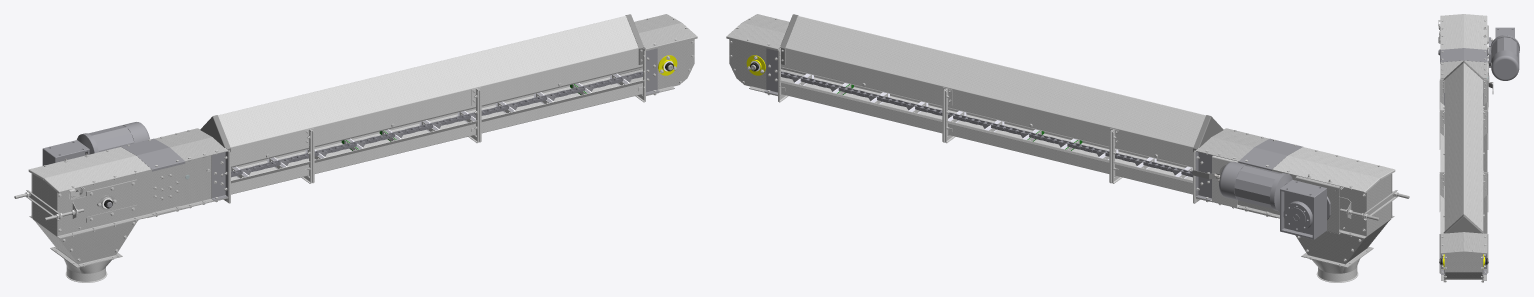
File: Annahmetrogkettenförderer_Typ_NRL.glb
3 renders of one model, left to right at view 1: azimuth 30°, elevation 25°; view 2: azimuth 150°, elevation 25°; view 3: azimuth 270°, elevation 25°, orthographic. The views are drawn at different scales.
Parts seen in each view (by area): view 1: Volumenkörper1.062, Volumenkörper1.058, Volumenkörper1.064, Volumenkörper1.059, Volumenkörper1.055, Volumenkörper2.007, Volumenkörper1.067, Volumenkörper1.129, Volumenkörper2.008, Volumenkörper1.026, Volumenkörper1.002, Volumenkörper1.066 (+10 smaller); view 2: Volumenkörper1.062, Volumenkörper1.058, Volumenkörper1.129, Volumenkörper1.064, Volumenkörper1.059, Volumenkörper1.055, Volumenkörper2.007, Volumenkörper2.009, Volumenkörper1.002, Volumenkörper1.066, Volumenkörper2.002, Volumenkörper1.001 (+9 smaller); view 3: Volumenkörper1.062, Volumenkörper1.058, Volumenkörper2.007, Volumenkörper1.129, Volumenkörper1.064, Volumenkörper1.003, Volumenkörper1.002, Volumenkörper1.029, Volumenkörper2.002, Volumenkörper2, Volumenkörper1.059, Volumenkörper1.055 (+7 smaller).
Boxes of the visible parts, x1,y1,x2,y2 form: Volumenkörper1.062: (296, 55, 476, 148); Volumenkörper1.058: (463, 16, 643, 106); Volumenkörper1.064: (218, 96, 309, 167); Volumenkörper1.059: (284, 114, 477, 173); Volumenkörper1.055: (451, 73, 644, 133); Volumenkörper2.007: (28, 147, 151, 193); Volumenkörper1.067: (57, 170, 167, 238); Volumenkörper1.129: (42, 122, 149, 165); Volumenkörper2.008: (59, 218, 141, 266); Volumenkörper1.026: (168, 152, 228, 211); Volumenkörper1.002: (634, 14, 697, 50); Volumenkörper1.066: (231, 155, 310, 194); Volumenkörper1.062: (947, 55, 1127, 148); Volumenkörper1.058: (780, 16, 960, 106); Volumenkörper1.129: (1219, 161, 1330, 239); Volumenkörper1.064: (1114, 96, 1205, 167); Volumenkörper1.059: (946, 114, 1139, 173); Volumenkörper1.055: (779, 73, 972, 133); Volumenkörper2.007: (1272, 147, 1395, 193); Volumenkörper2.009: (1295, 231, 1364, 266); Volumenkörper1.002: (726, 14, 789, 50); Volumenkörper1.066: (1113, 155, 1192, 194); Volumenkörper2.002: (1195, 128, 1268, 161); Volumenkörper1.001: (729, 39, 780, 95); Volumenkörper1.062: (1444, 92, 1483, 171); Volumenkörper1.058: (1444, 154, 1483, 230); Volumenkörper2.007: (1440, 14, 1487, 49); Volumenkörper1.129: (1489, 27, 1519, 80); Volumenkörper1.064: (1444, 63, 1483, 108); Volumenkörper1.003: (1441, 251, 1486, 282); Volumenkörper1.002: (1440, 232, 1487, 254); Volumenkörper1.029: (1440, 48, 1487, 63); Volumenkörper2.002: (1440, 60, 1487, 78); Volumenkörper2: (1443, 214, 1483, 233); Volumenkörper1.059: (1440, 133, 1487, 198); Volumenkörper1.055: (1440, 195, 1487, 233).
Bounding box in the file's own units: 3.91 × 0.728 × 0.5578.
Materials: 48 (20 with a texture image).
